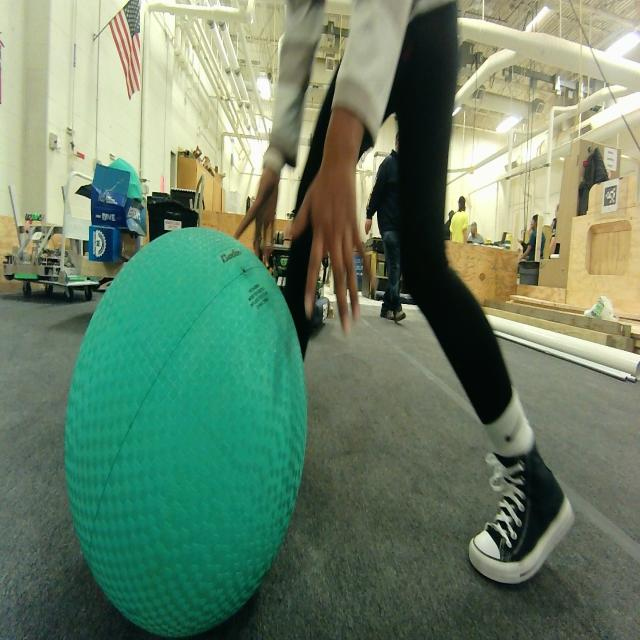algae: (65, 228, 307, 637)
